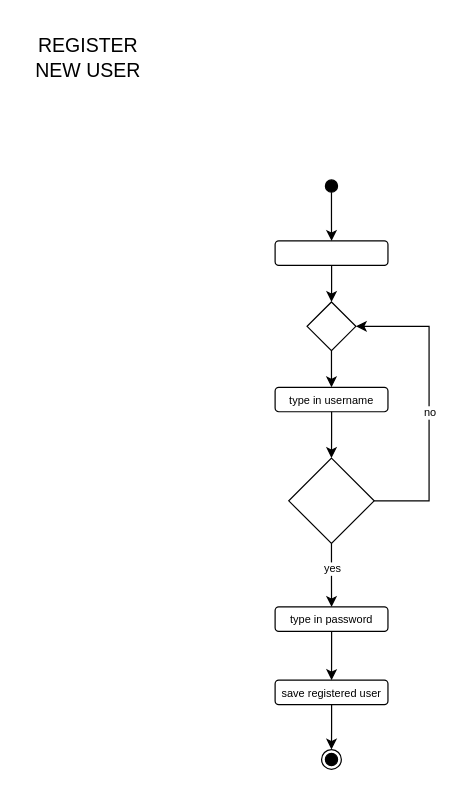
The diagram is 460 pixels wide and 791 high, and some of its shapes have lost their labels. Here are the shapes that lost their labels. From the top down, the centre of each, then its label:
[331,252]: "register" selected
[331,500]: valid username?
